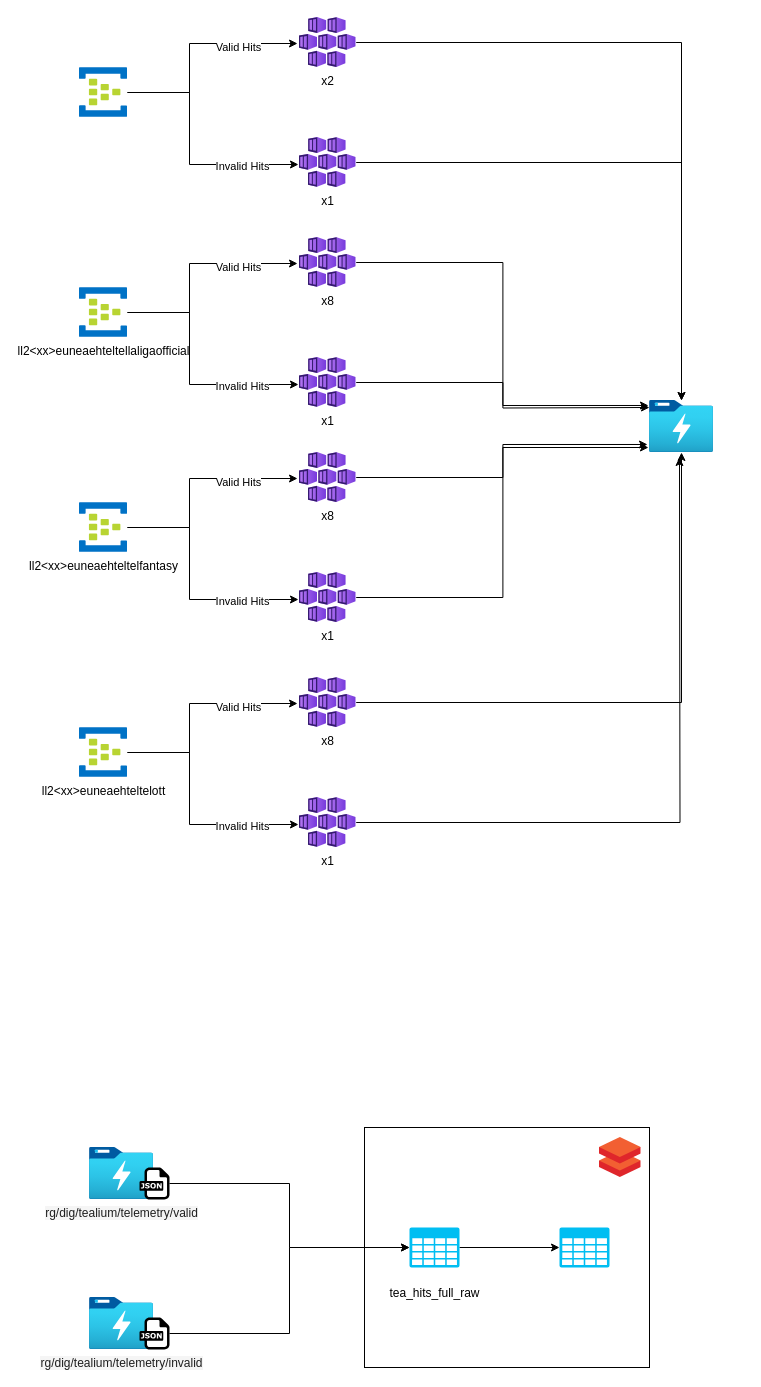
Image size: 761x1387. Some labels were removed from this diagram. Here are the shapes that lost their labels. From the top down, the centre of each, then its label:
the point at 103,92: ll2<xx>euneaehteltelcommon
the point at 681,426: rg/dig/tealium/telemetry
the point at 584,1247: tea_hits_parsed_raw
